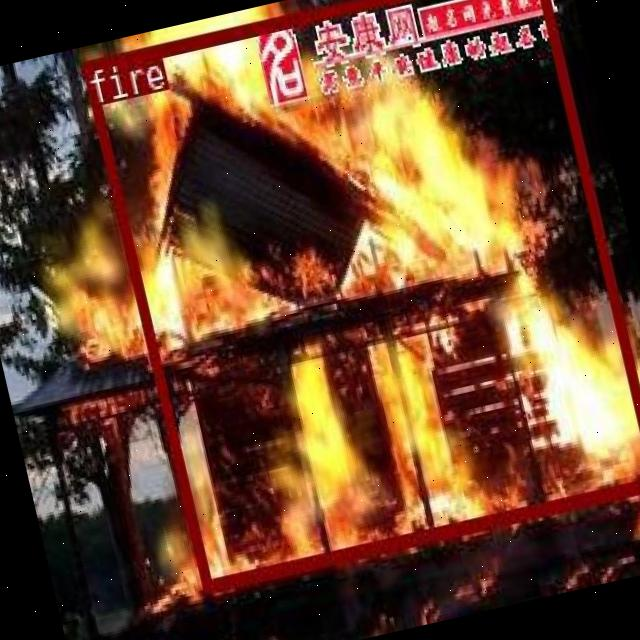fire: (79, 0, 640, 590)
